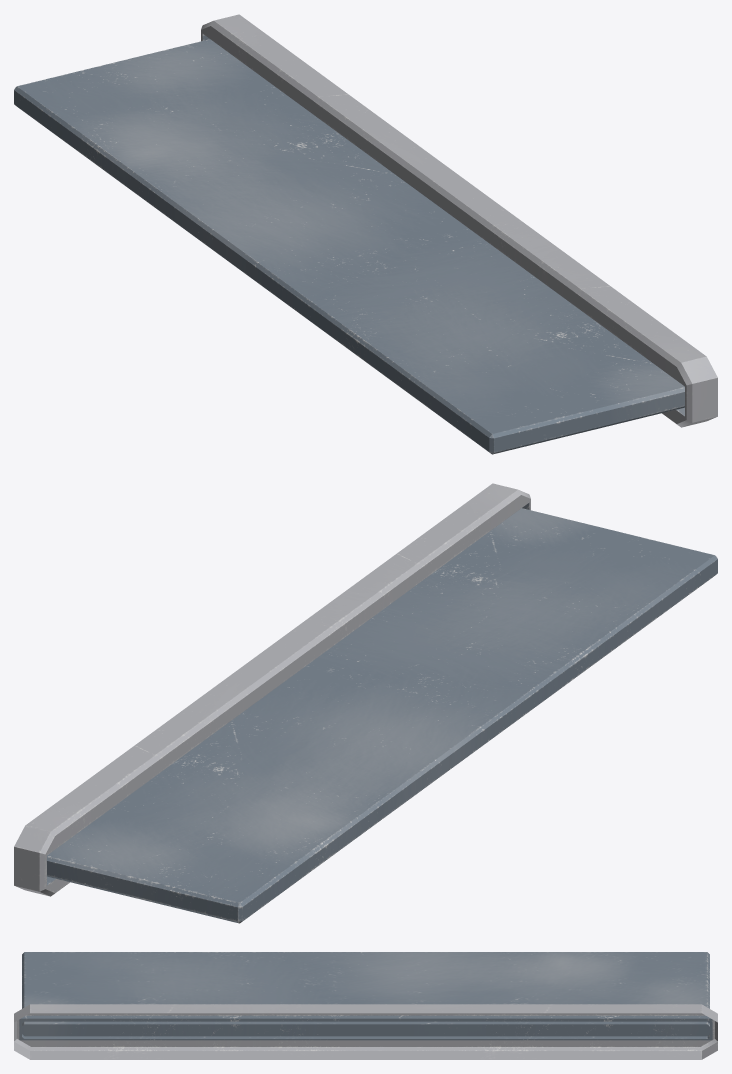
File: Mesa_dor_text.fbx
The picture shows the model from 3 angles, top to bottom: view 1: azimuth 30°, elevation 25°; view 2: azimuth 150°, elevation 25°; view 3: azimuth 270°, elevation 25°; orthographic projection. The views are drawn at different scales.
Visible parts, largest first — view 1: Mesa, Soporte_mesa; view 2: Mesa, Soporte_mesa; view 3: Mesa, Soporte_mesa.
Boxes of the visible parts, box(x1,y1,x2,y2) form: Mesa: box(14, 39, 684, 454); Soporte_mesa: box(201, 14, 717, 427); Mesa: box(47, 508, 717, 923); Soporte_mesa: box(14, 483, 530, 896); Mesa: box(22, 952, 709, 1038); Soporte_mesa: box(14, 1004, 717, 1059).
Bounding box in the file's own units: 63.8 × 17.86 × 244.
1 material, 1 textured.
